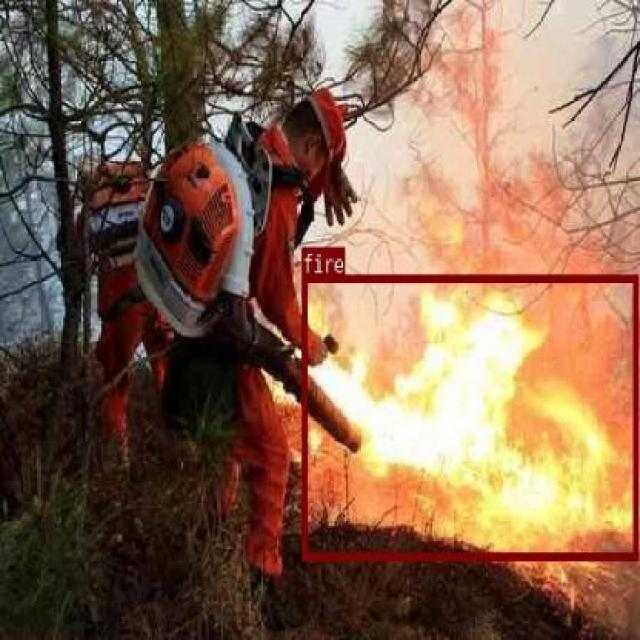fire: (301, 274, 637, 558)
